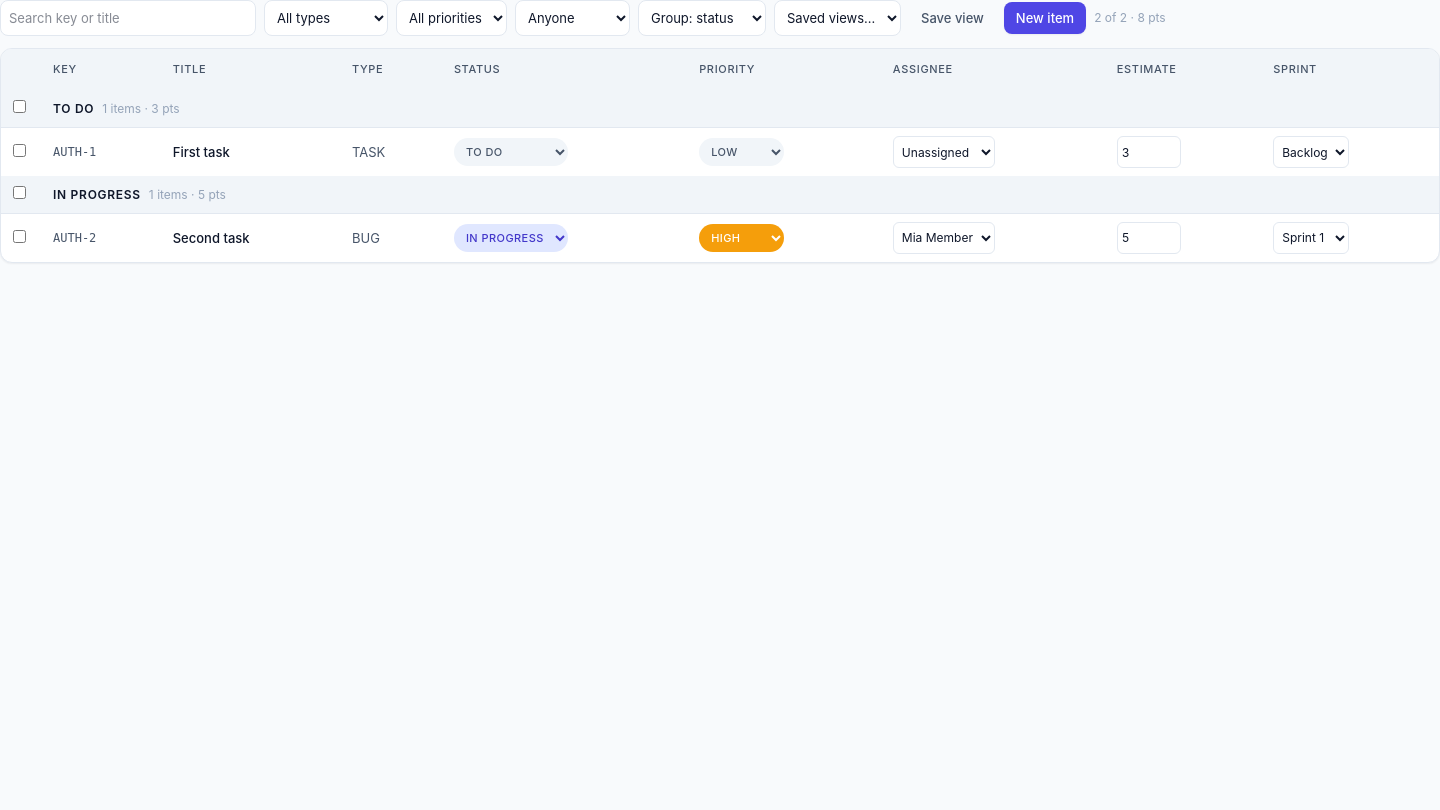
Test case: BacklogClient › creates a backlog item from the drawer
Click the button "New item": x=1045, y=18 left=1004, top=2, right=1086, bottom=34
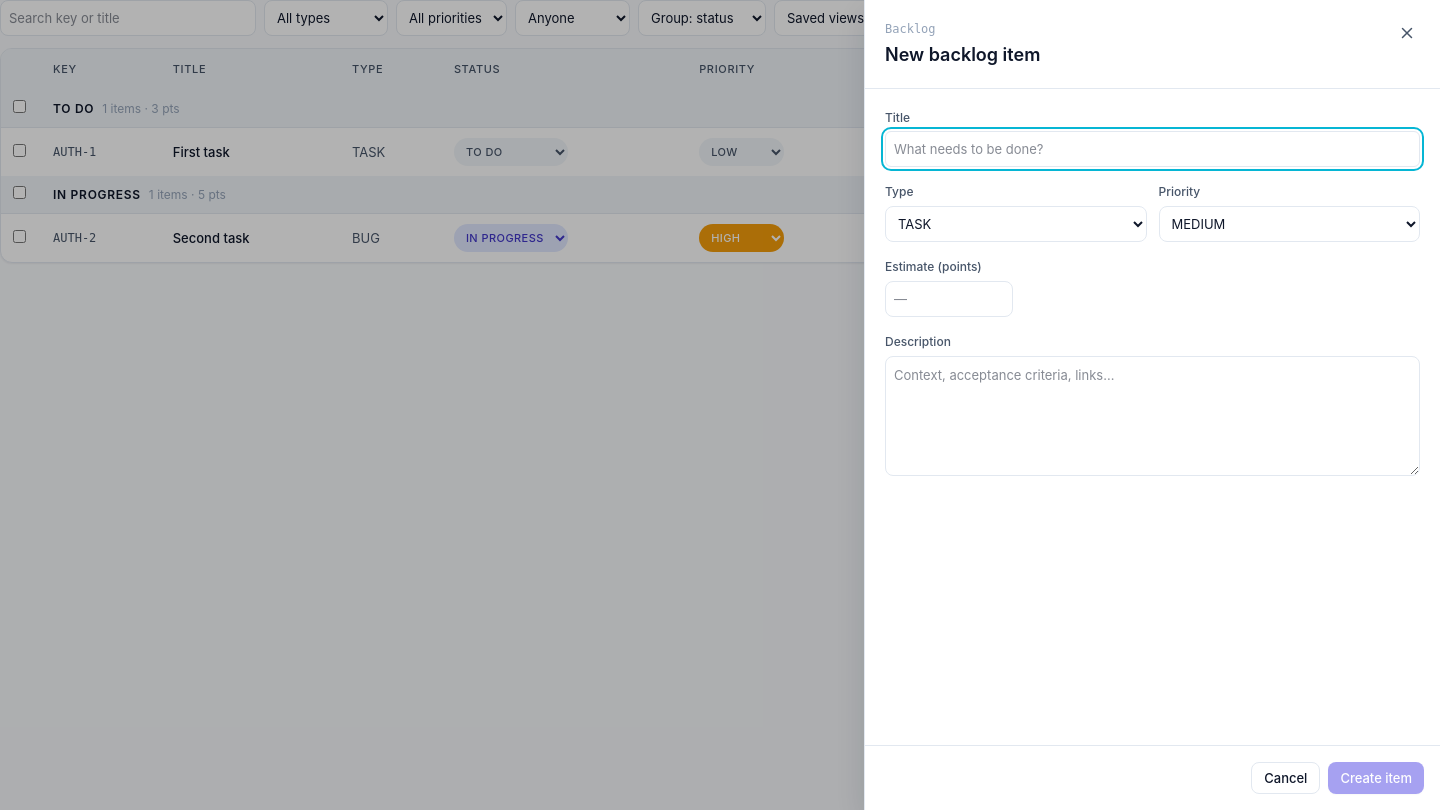
In the field labelled "Title": x=1152, y=149 left=885, top=131, right=1420, bottom=167, type "New task"
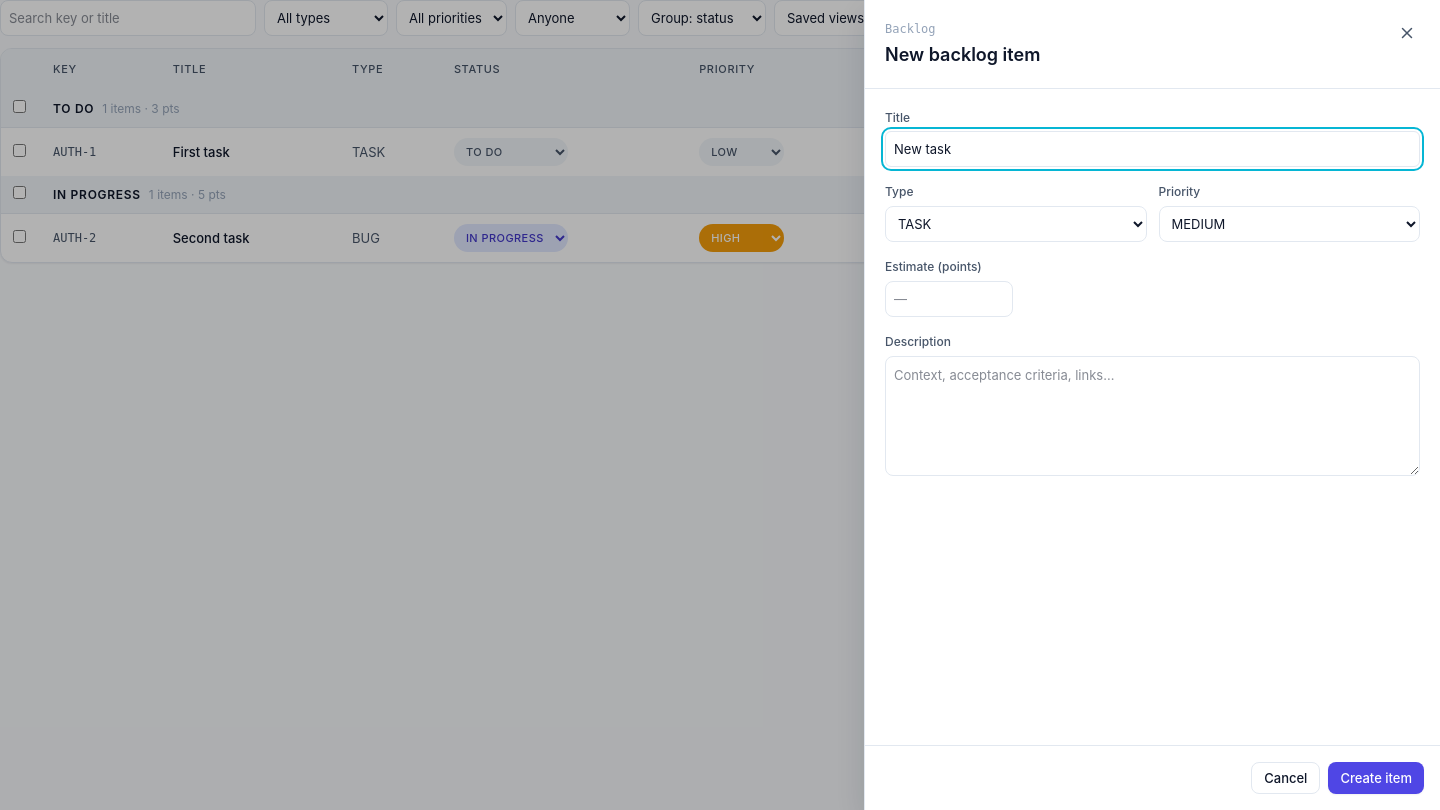
Click the button "Create item": x=1376, y=778 left=1328, top=762, right=1424, bottom=794
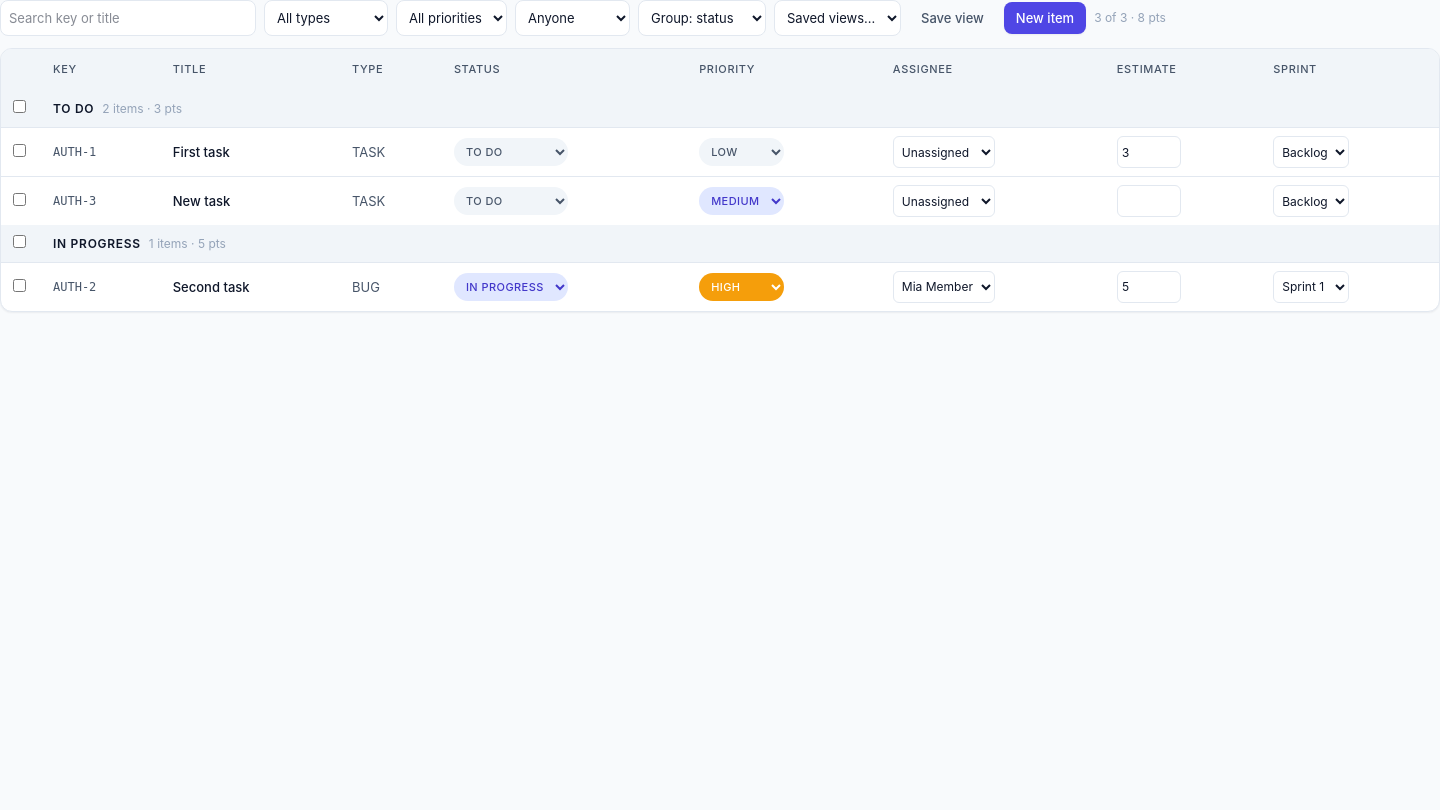
Expected: the text "New task" is shown, left=173, top=193, right=230, bottom=209
